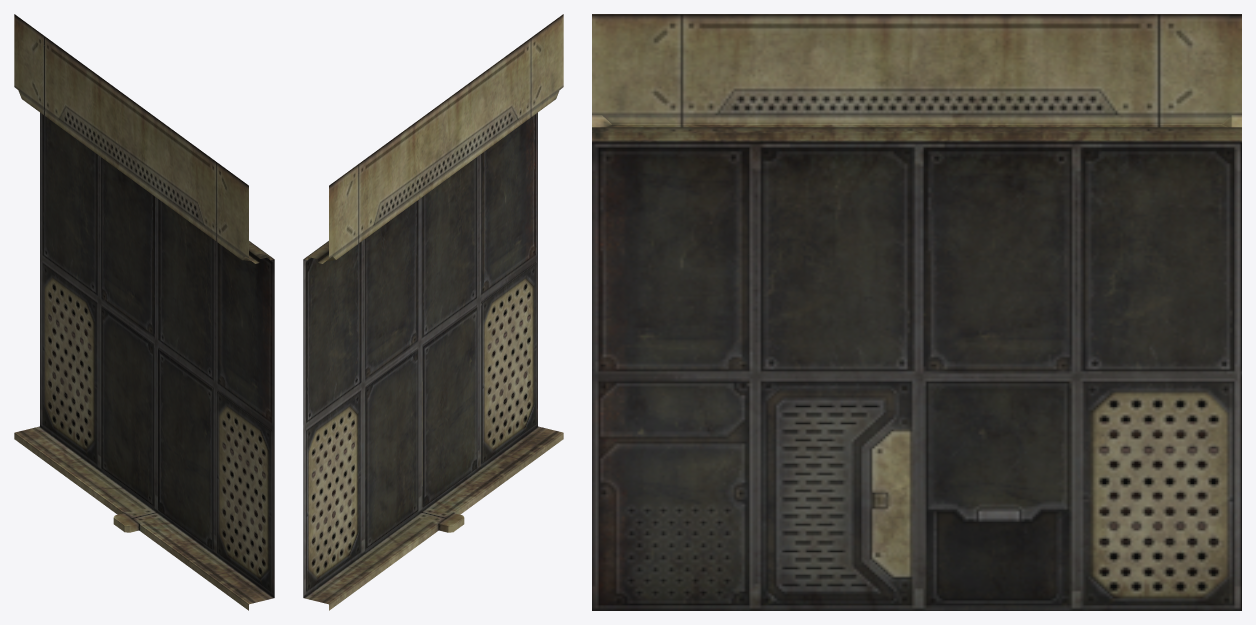
The model's file is pplant_ground_pipes.dae.
3 views of the same model, side by side, from view 1: azimuth 30°, elevation 25°; view 2: azimuth 150°, elevation 25°; view 3: azimuth 270°, elevation 25° (orthographic). The views are drawn at different scales.
Visible parts, largest first — view 1: ground_pipes; view 2: ground_pipes; view 3: ground_pipes.
Boxes of the visible parts, left/top/right/bottom form: ground_pipes: left=14, top=14, right=274, bottom=610; ground_pipes: left=303, top=14, right=563, bottom=610; ground_pipes: left=592, top=14, right=1241, bottom=610.
Size of the model in its own units: 0.375 by 4 by 4.
